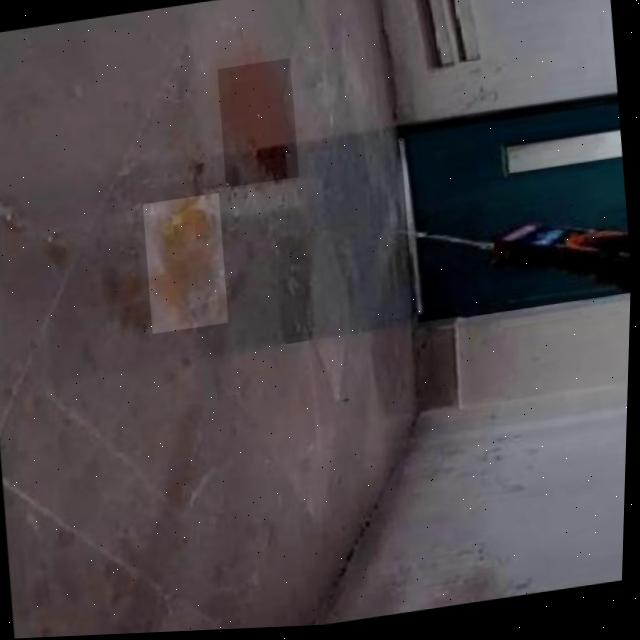spillage: (150, 198, 226, 329), (218, 61, 296, 183)
